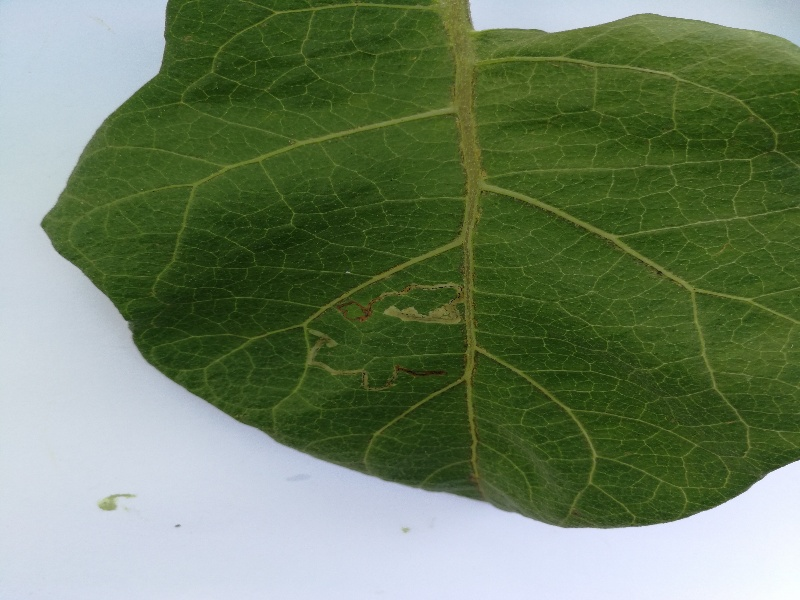leafminer: (304, 328, 452, 400), (333, 276, 468, 340)
